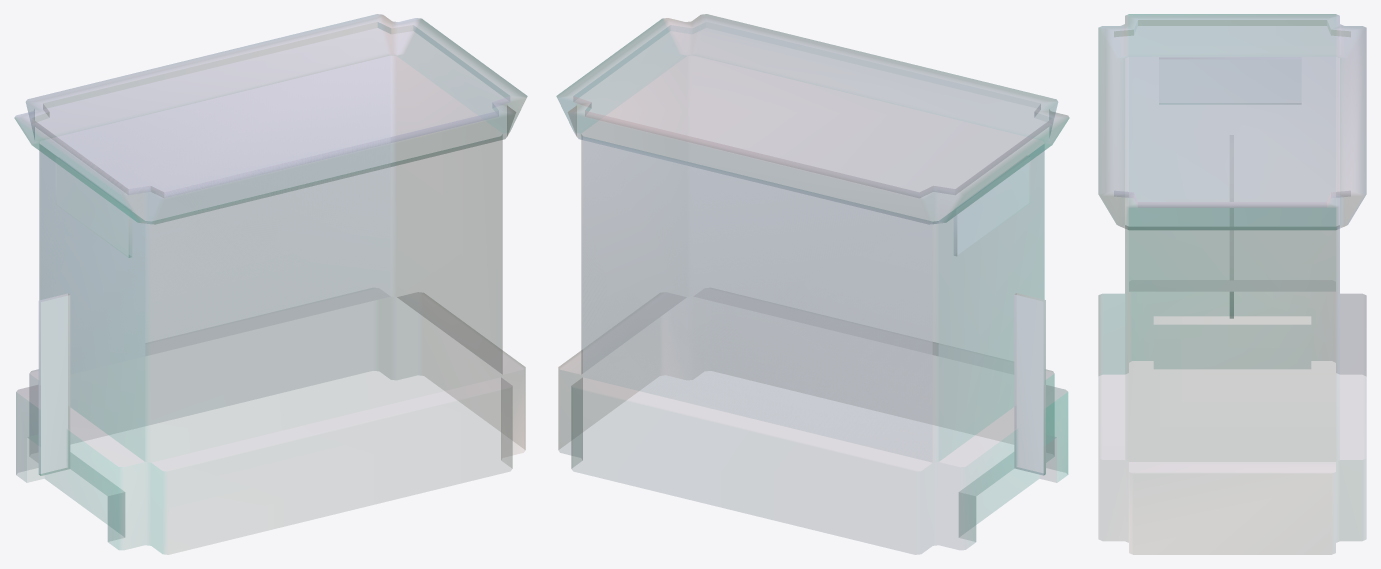
Rendered from CEN_D8F0.preview.glb.
3 renders of one model, left to right at view 1: azimuth 30°, elevation 25°; view 2: azimuth 150°, elevation 25°; view 3: azimuth 270°, elevation 25°, orthographic. The views are drawn at different scales.
Visible parts, largest first — view 1: obj_1350, obj_1070, obj_2720, obj_25e0, obj_1cc0, obj_1540, obj_2bd0, obj_2e50, obj_1f00; view 2: obj_1350, obj_1070, obj_2720, obj_25e0, obj_1cc0, obj_2bd0, obj_2e50, obj_1f00; view 3: obj_1350, obj_1070, obj_2720, obj_25e0, obj_1cc0, obj_1f00.
Boxes of the visible parts, x1,y1,x2,y2 form: obj_1350: (39,56,502,462); obj_1070: (15,14,526,554); obj_2720: (51,35,491,189); obj_25e0: (14,14,526,224); obj_1cc0: (32,22,509,197); obj_1540: (41,152,145,374); obj_2bd0: (39,157,131,475); obj_2e50: (41,164,127,475); obj_1f00: (27,435,124,541); obj_1350: (581,56,1044,462); obj_1070: (557,14,1068,554); obj_2720: (592,35,1033,189); obj_25e0: (557,14,1068,224); obj_1cc0: (573,22,1052,197); obj_2bd0: (954,156,1045,475); obj_2e50: (958,162,1043,474); obj_1f00: (959,435,1056,541); obj_1350: (1125,57,1339,461); obj_1070: (1098,14,1366,554); obj_2720: (1134,36,1330,197); obj_25e0: (1098,14,1366,229); obj_1cc0: (1114,20,1350,207); obj_1f00: (1154,325,1310,368).
Bounding box in the file's own units: 76.32 × 59.61 × 41.78.
